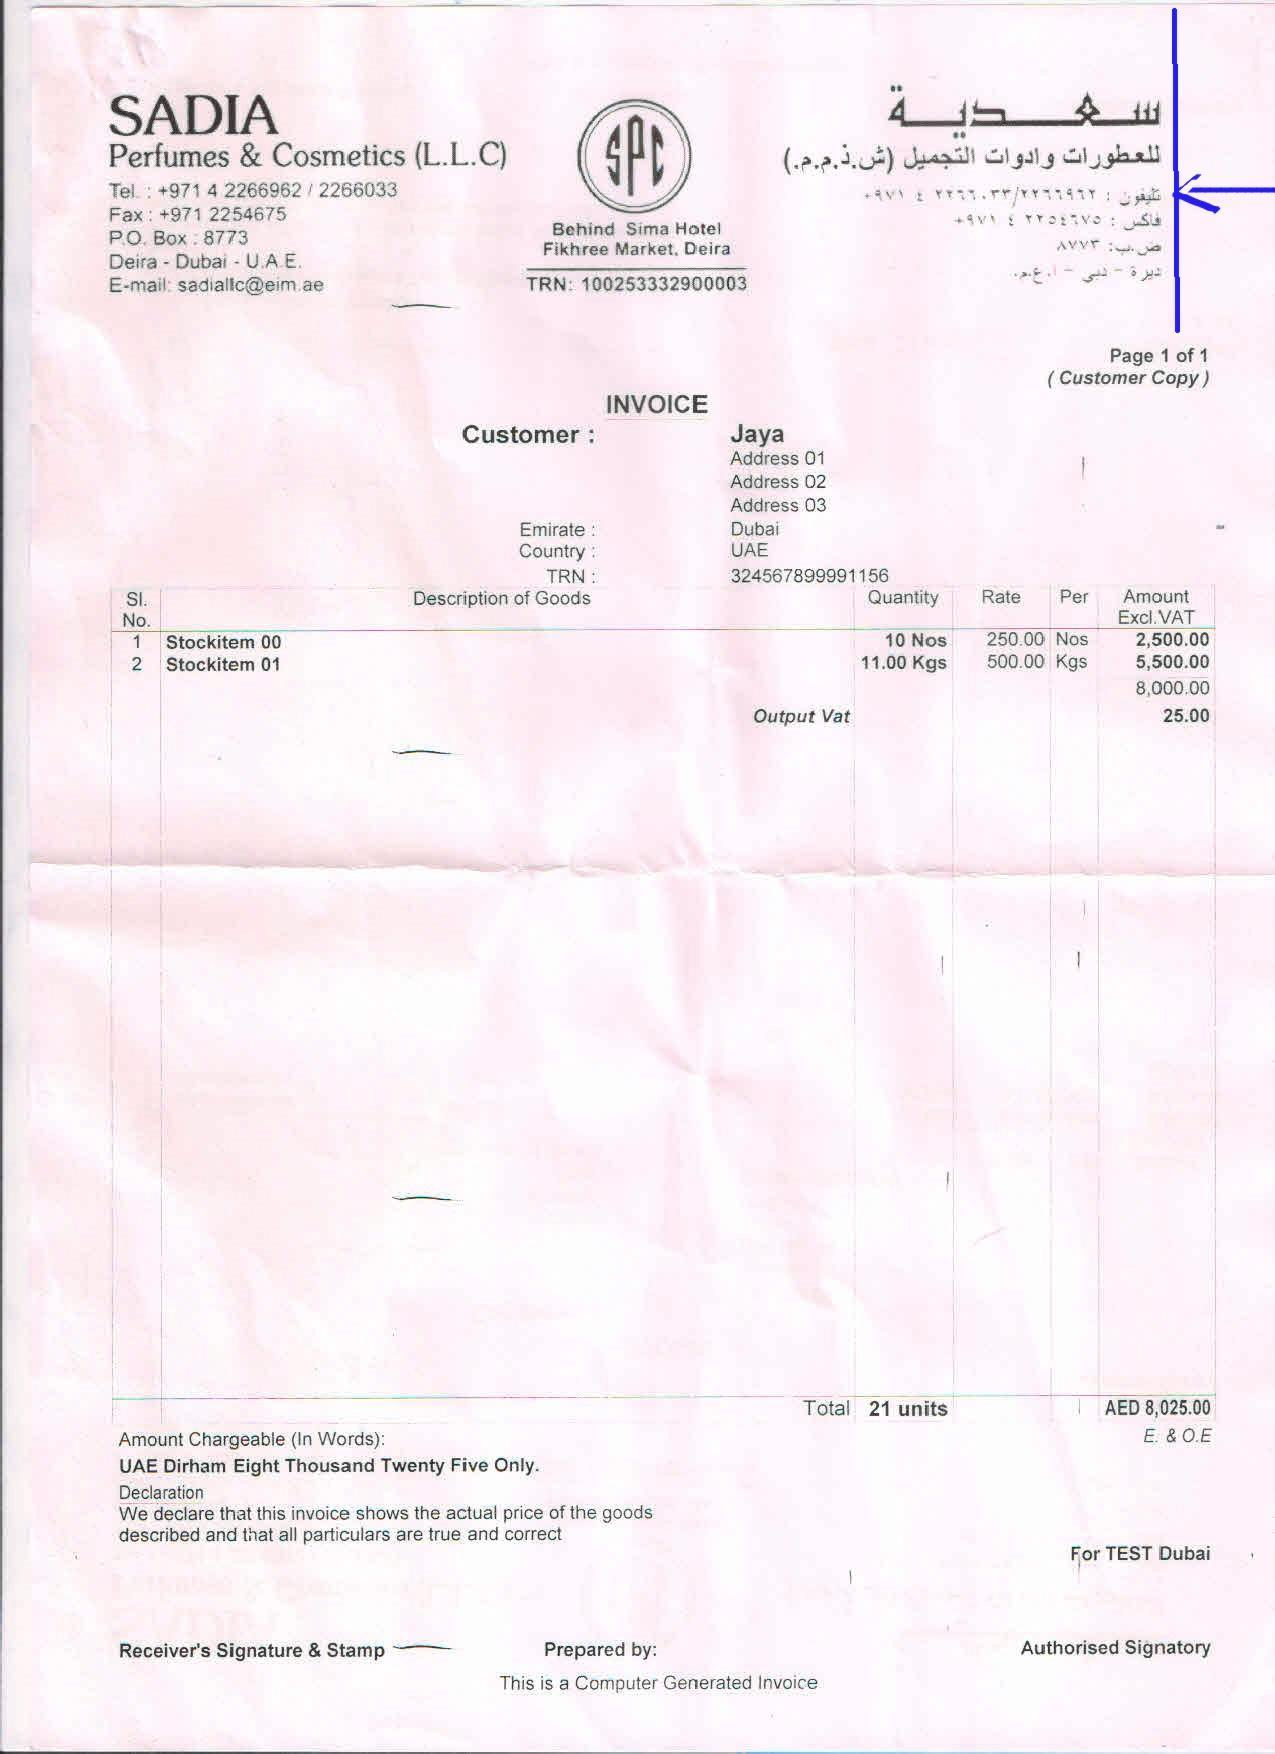TotalAmount: (1091, 1394, 1219, 1419)
